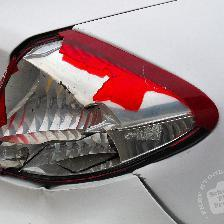broken_part: (8, 77, 150, 167)
